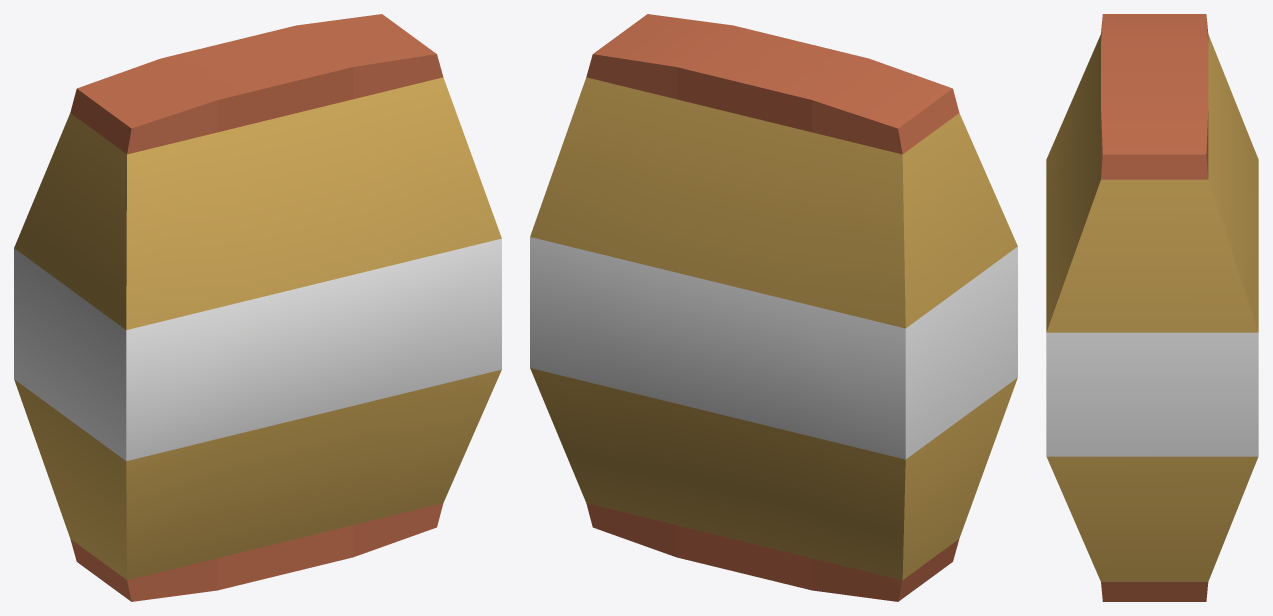
The model's file is papitas_texturizada.fbx.
3 renders of one model, left to right at view 1: azimuth 30°, elevation 25°; view 2: azimuth 150°, elevation 25°; view 3: azimuth 270°, elevation 25°, orthographic. The views are drawn at different scales.
Visible parts, largest first — view 1: pCube2; view 2: pCube2; view 3: pCube2.
Boxes of the visible parts, box(x1,y1,x2,y2) form: pCube2: box(14, 14, 501, 601); pCube2: box(530, 14, 1017, 601); pCube2: box(1046, 14, 1258, 601).
Bounding box in the file's own units: 6.85 × 8.54 × 3.54.
Materials: 1 (1 with a texture image).
